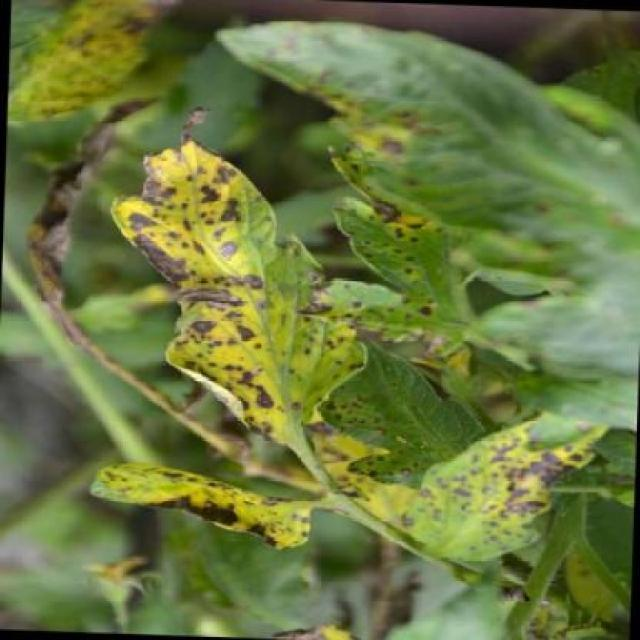Septoria leaf spot: (98, 120, 362, 463), (355, 400, 638, 577), (69, 441, 332, 570)
